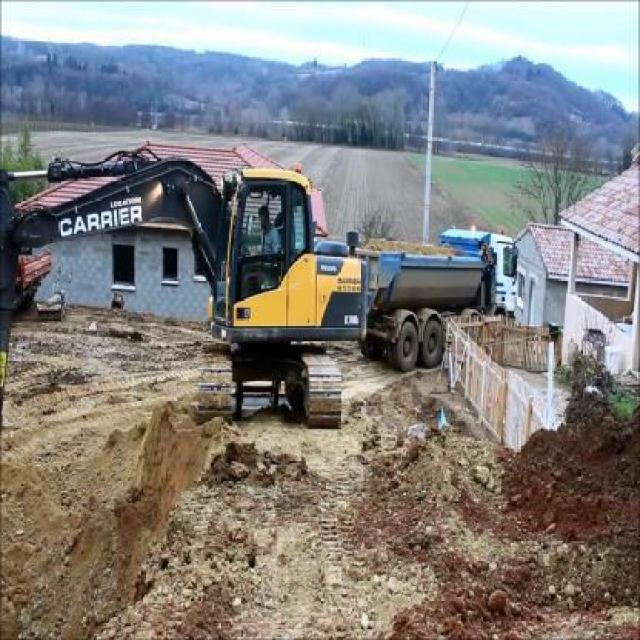Dump Truck: (362, 223, 518, 374)
Excavator: (1, 144, 368, 430)
